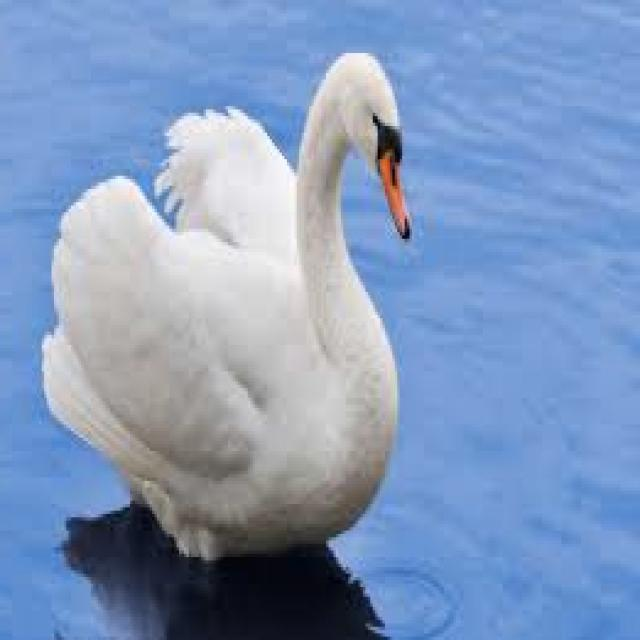swan: (44, 53, 416, 554)
